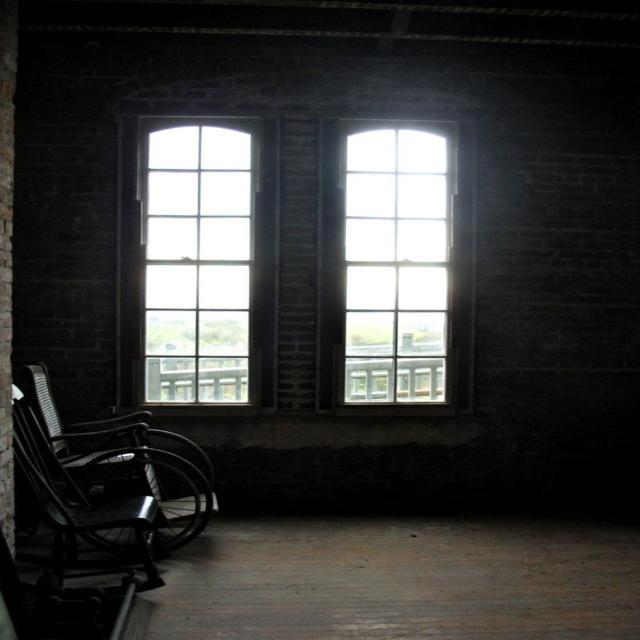chair: (1, 344, 235, 587), (15, 386, 201, 627)
